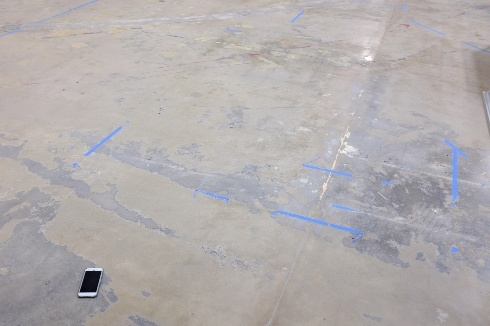phone: (66, 264, 115, 296)
